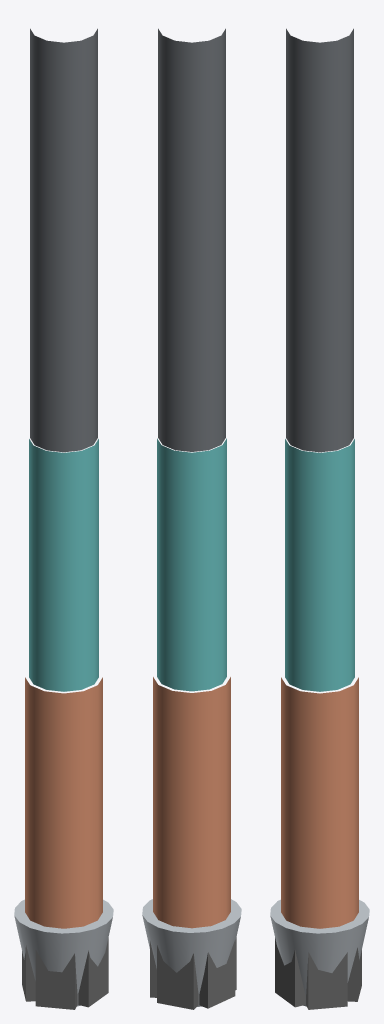
File: bha.glb
The picture shows the model from 3 angles, left to right: view 1: azimuth 90°, elevation 25°; view 2: azimuth 150°, elevation 25°; view 3: azimuth 330°, elevation 25°; orthographic projection.
Size of the model in its own units: 0.7993 by 8.49 by 0.793.
